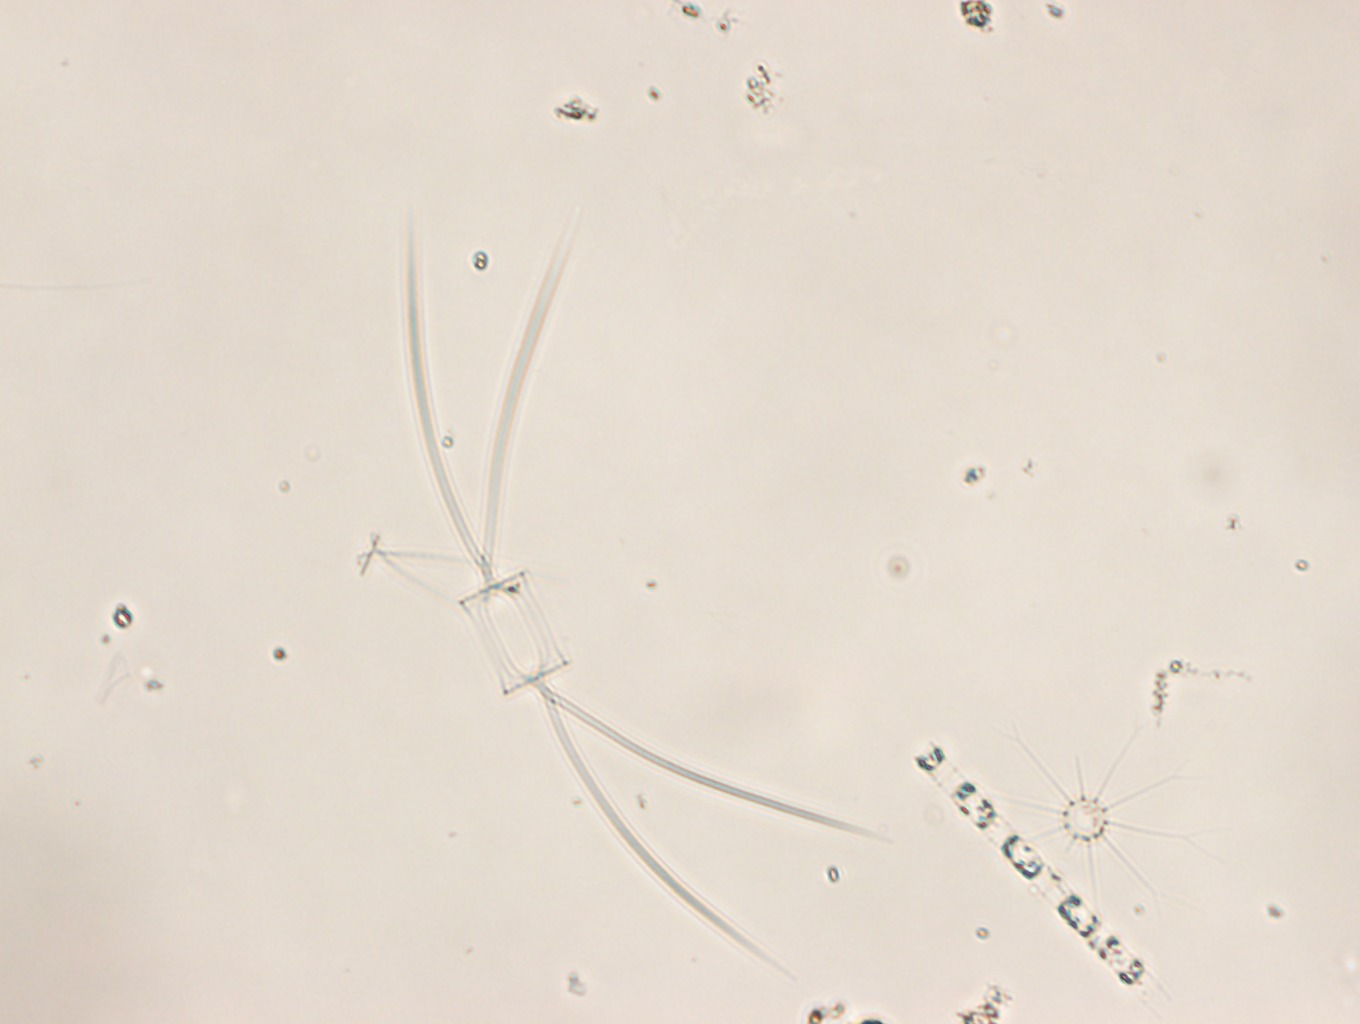bacteriastrum: (996, 726, 1191, 912)
chaetoceros: (399, 207, 892, 976)
skeletonema: (914, 745, 1147, 989)
